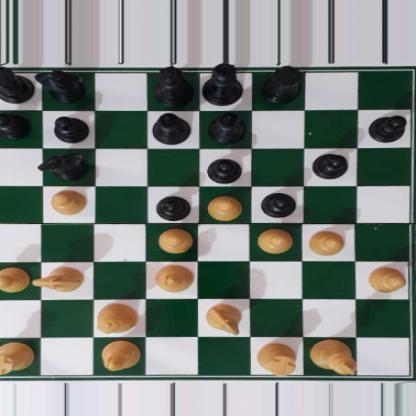black-bishop: (151, 112, 193, 145), (209, 112, 248, 144)
black-king: (205, 63, 242, 108)
black-knight: (34, 70, 88, 105), (42, 152, 87, 181)
black-pawn: (369, 114, 407, 143), (311, 152, 349, 179), (53, 114, 87, 143), (208, 155, 243, 183), (261, 190, 296, 218), (156, 194, 191, 220), (0, 112, 31, 139)
black-queen: (151, 66, 195, 106)
black-rook: (260, 64, 306, 105), (0, 65, 34, 104)
white-bishop: (100, 339, 139, 372), (155, 263, 195, 291)
white-king: (308, 339, 358, 376)
white-knight: (31, 266, 86, 294), (205, 303, 244, 335)
white-pawn: (365, 265, 406, 294), (308, 227, 346, 256), (50, 187, 88, 216), (256, 227, 293, 253), (157, 227, 193, 253), (206, 194, 243, 219), (0, 267, 31, 291)
white-queen: (97, 301, 136, 335)
white-rook: (256, 343, 298, 376), (0, 341, 34, 374)
